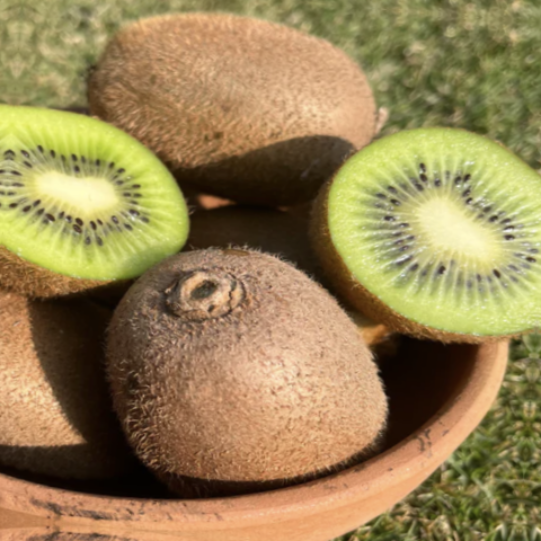kiwi: (75, 195, 416, 522), (70, 0, 415, 224)
